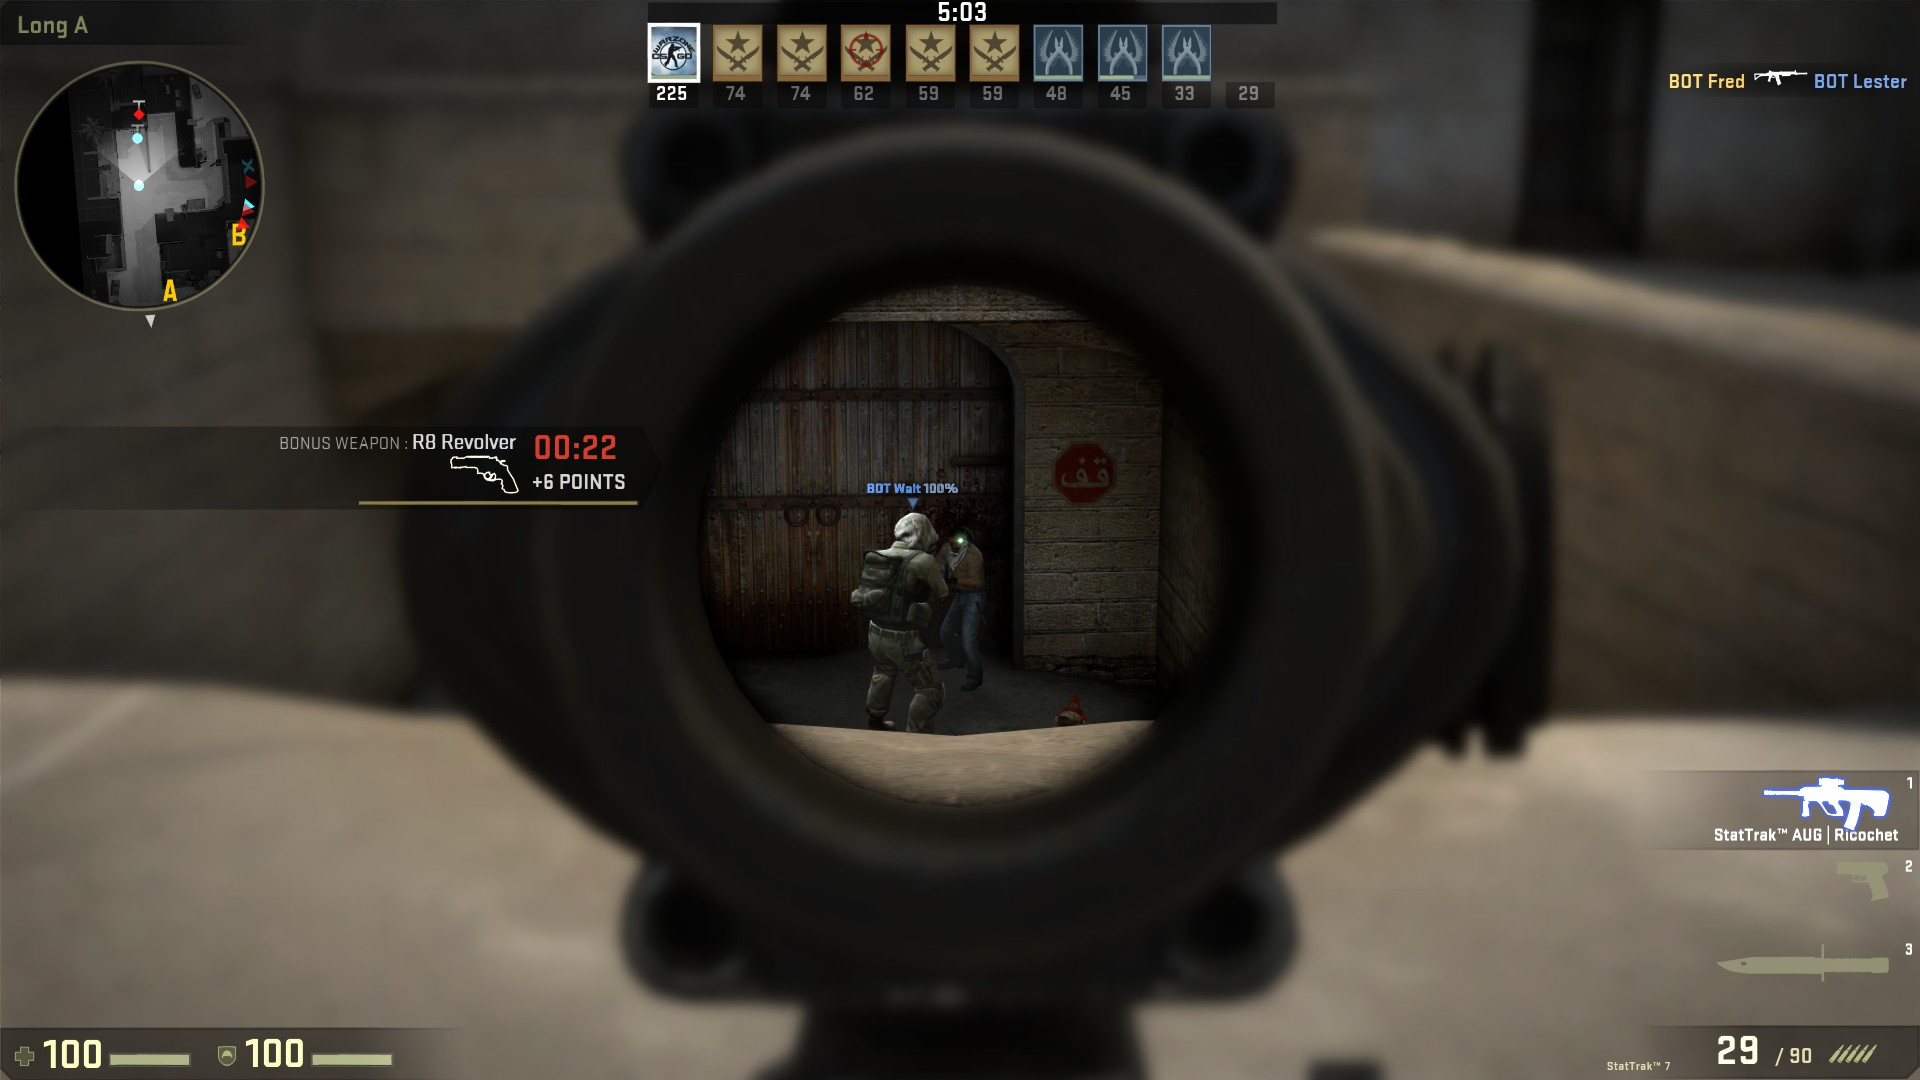c: (855, 512, 949, 733)
ch: (887, 512, 944, 553)
t: (939, 527, 986, 691)
th: (952, 527, 973, 554)
